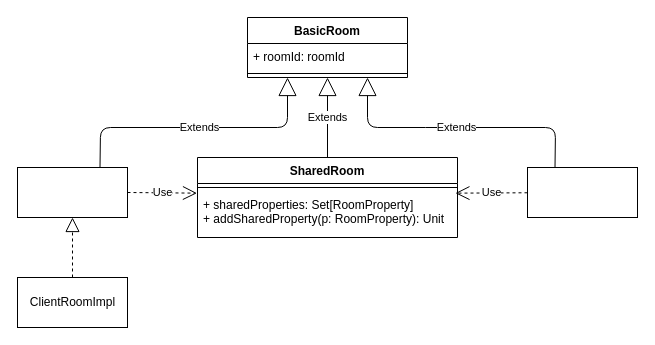
This 655x345 diagram has some shape labels left out. The shapes that lost their labels are listed below. From the top down, each one's centre as x and y in pixels, then its label:
[72,192]: «interface» ClientRoom
[582,192]: ServerRoom
